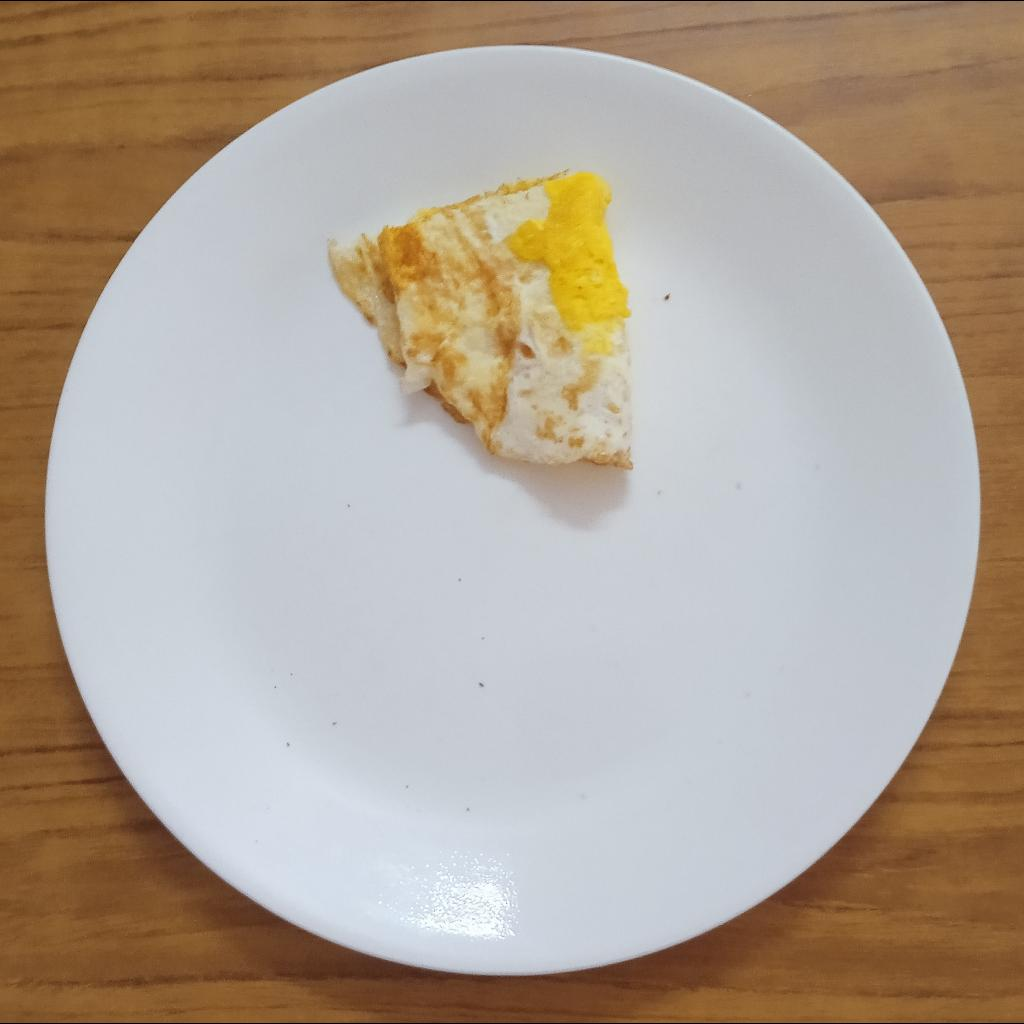egg-poached: (328, 168, 636, 469)
